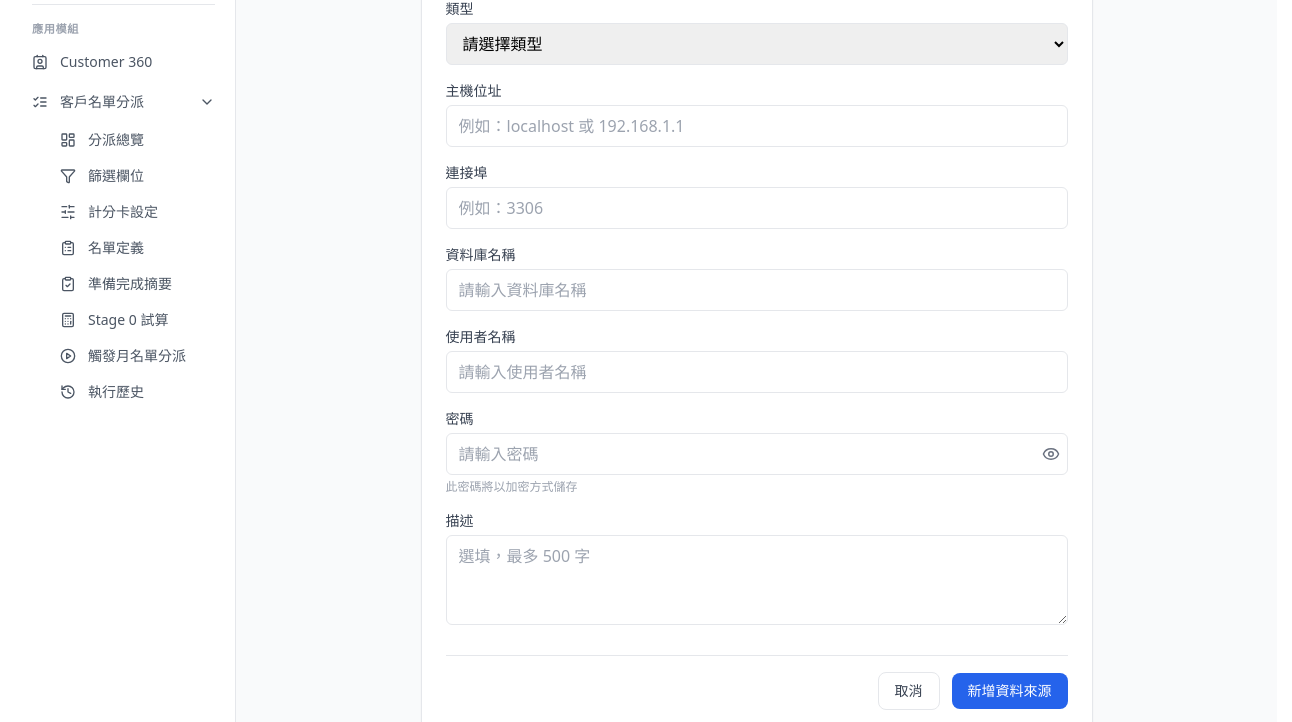
AddDatasourcePage › 必填欄位驗證 › 空白提交顯示必填錯誤
The image size is (1292, 722).
(page scrolled)
Click the button "新增資料來源".
click(1010, 691)  # box [952, 673, 1068, 709]
(page scrolled)
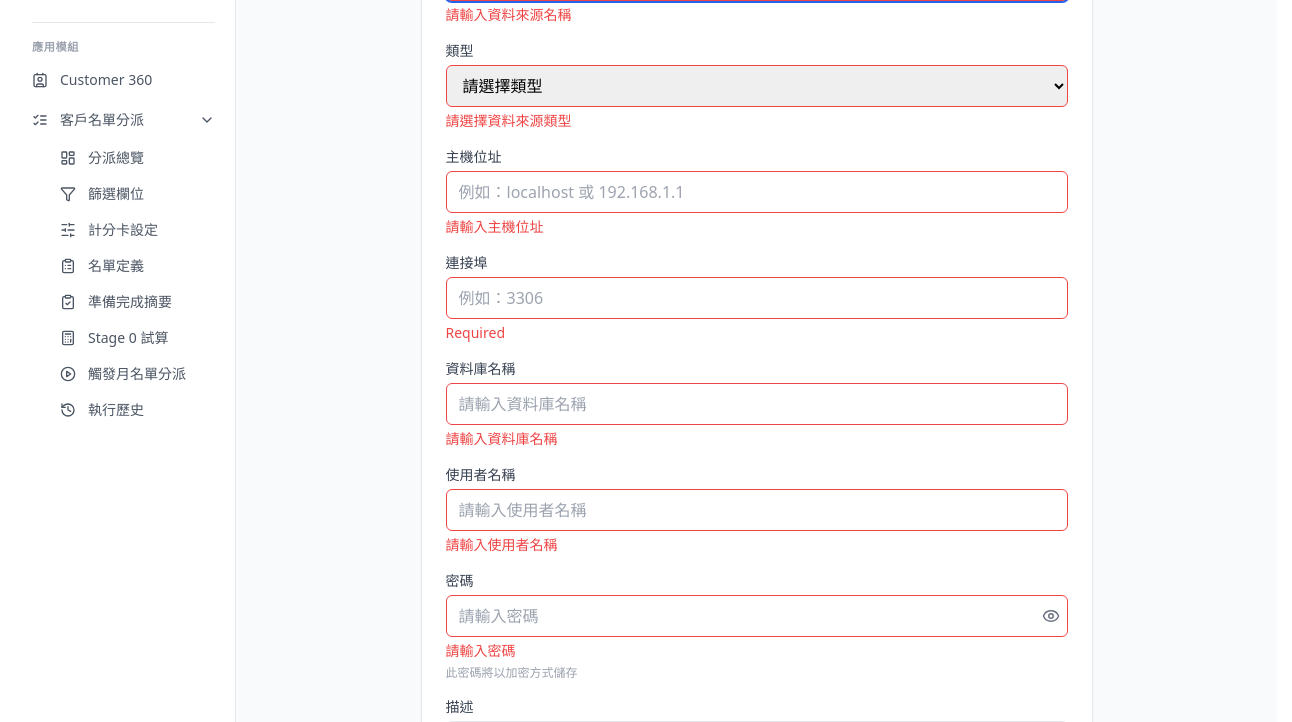
Now the text "請輸入資料來源名稱" is shown, box [446, 5, 572, 24]
Now the text "請選擇資料來源類型" is shown, box [446, 111, 572, 130]
Now the text "請輸入主機位址" is shown, box [446, 217, 544, 236]
